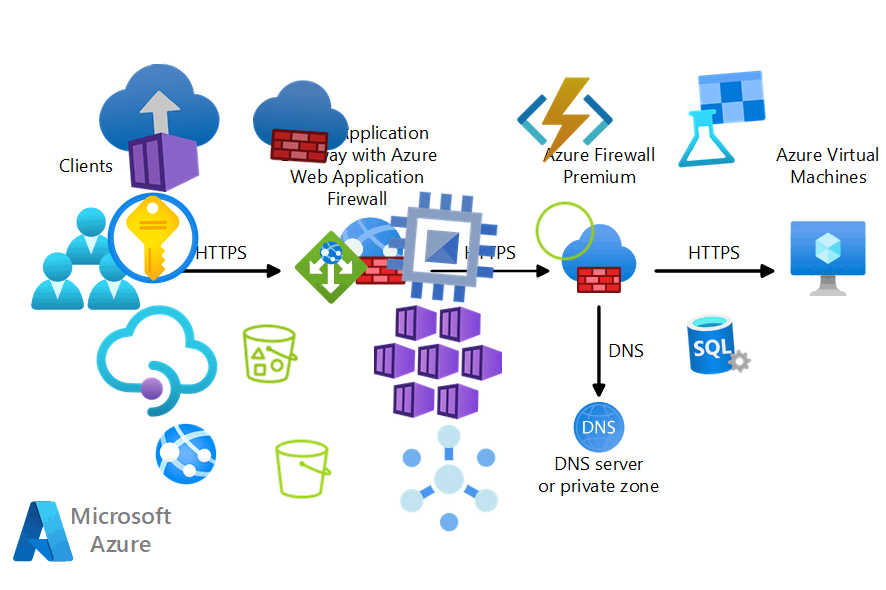aws_simple_storage_service_bucket_with_objects: (236, 320, 304, 388)
aws_simple_storage_service_object: (532, 198, 598, 264)
aws_simple_storage_service_s3_standard: (270, 436, 336, 502)
azure_api_management_services: (91, 295, 223, 427)
azure_app_services: (152, 420, 220, 488)
azure_container_instances: (91, 59, 229, 197)
azure_firewalls: (249, 69, 353, 173)
azure_function_apps: (516, 71, 614, 169)
azure_key_vaults: (104, 189, 202, 287)
azure_kubernetes_services: (372, 295, 504, 427)
azure_machine_learning_studio_workspaces: (668, 67, 772, 171)
azure_sql_server: (684, 309, 754, 379)
gcp_compute_engine: (372, 177, 512, 317)
gcp_pubsub: (384, 413, 514, 543)
